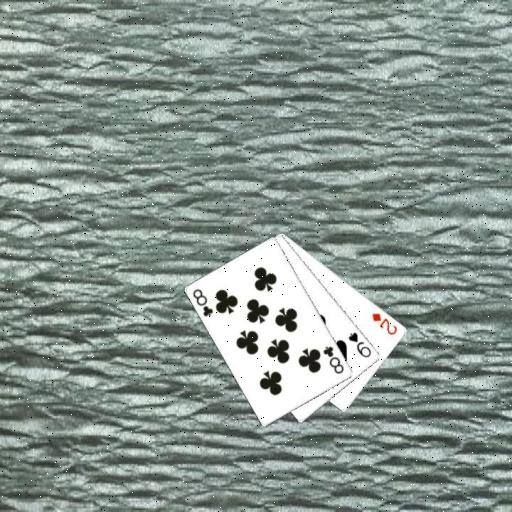2D: (369, 310, 399, 336)
8C: (320, 343, 346, 375), (190, 286, 215, 318)
9S: (346, 329, 373, 359)
